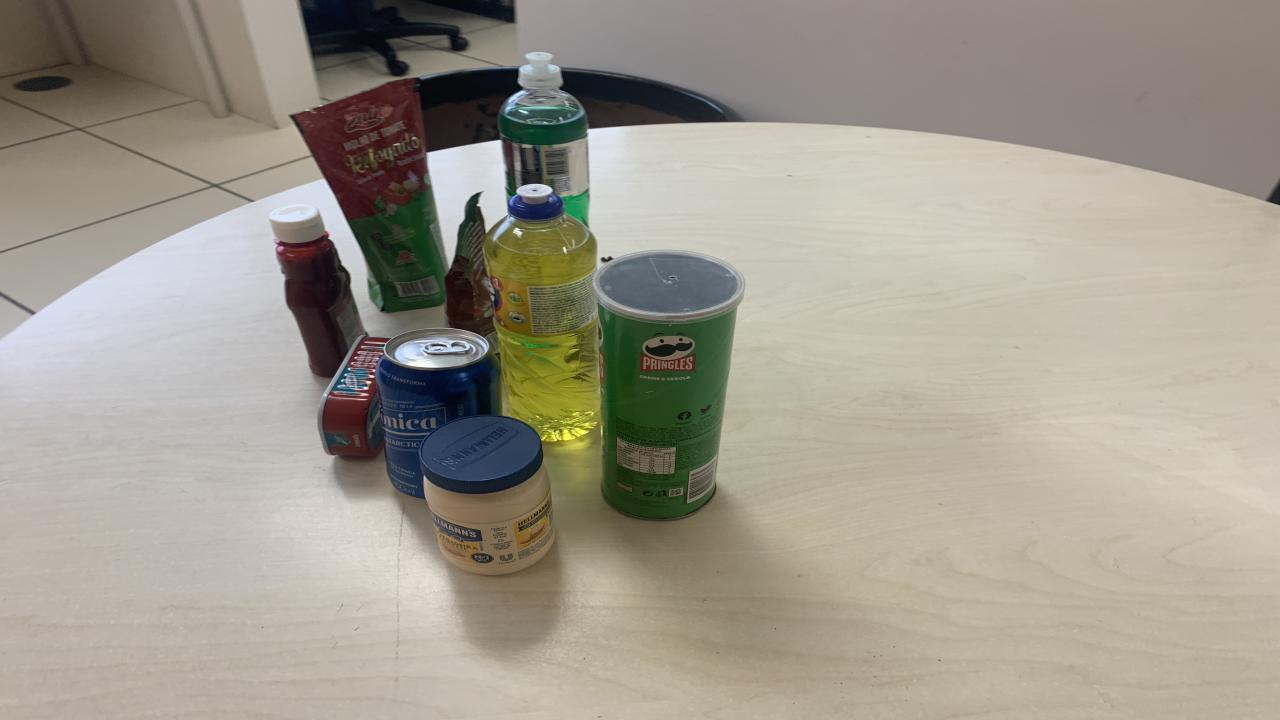Coffee-Pantry_Items: (445, 193, 498, 352)
Detergent-Cleanup_Items: (482, 184, 600, 441), (498, 86, 590, 225), (520, 54, 560, 82)
Ketchup-Pantry_Items: (270, 204, 365, 377)
Mayonnaise-Pantry_Items: (420, 414, 555, 576)
Pringles-Snacks: (595, 249, 745, 519), (342, 399, 345, 401)
Tomato_Sauce-Pantry_Items: (292, 79, 448, 313)
Tonic-Drinks: (375, 328, 502, 497)
Tuna_Can-Pantry_Items: (318, 336, 388, 458)
